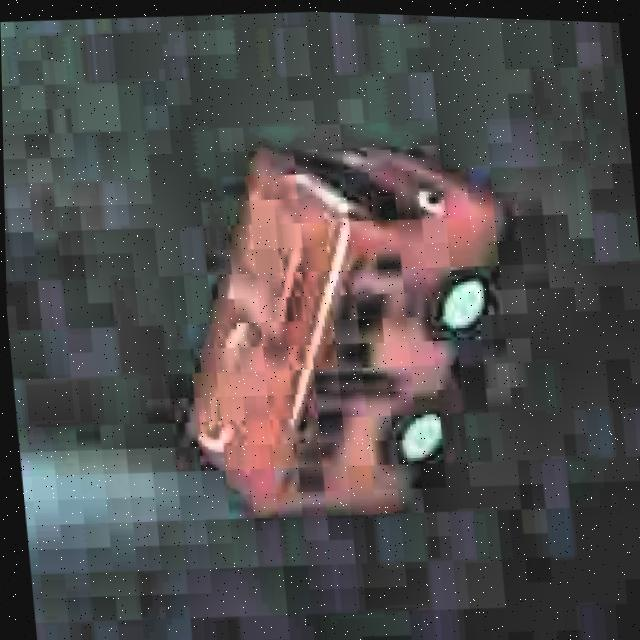bus: (149, 117, 541, 542)
